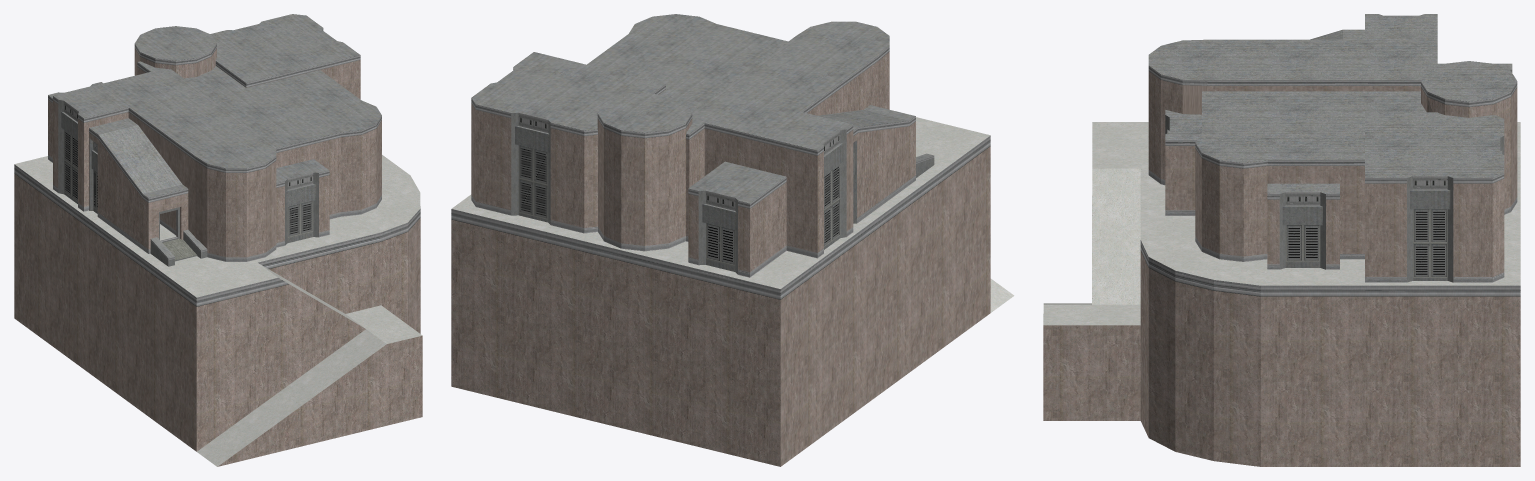
File: ply_corl_house_lg_s02_fp1_r0_mesh_l1.fbx
The picture shows the model from 3 angles, left to right: view 1: azimuth 30°, elevation 25°; view 2: azimuth 150°, elevation 25°; view 3: azimuth 270°, elevation 25°; orthographic projection. The views are drawn at different scales.
Visible parts, largest first — view 1: mesh_node; view 2: mesh_node; view 3: mesh_node.
Boxes of the visible parts, left/top/right/bottom form: mesh_node: left=14, top=14, right=422, bottom=466; mesh_node: left=451, top=14, right=1014, bottom=466; mesh_node: left=1043, top=14, right=1520, bottom=466.
Size of the model in its own units: 31.97 by 27.49 by 39.4.
